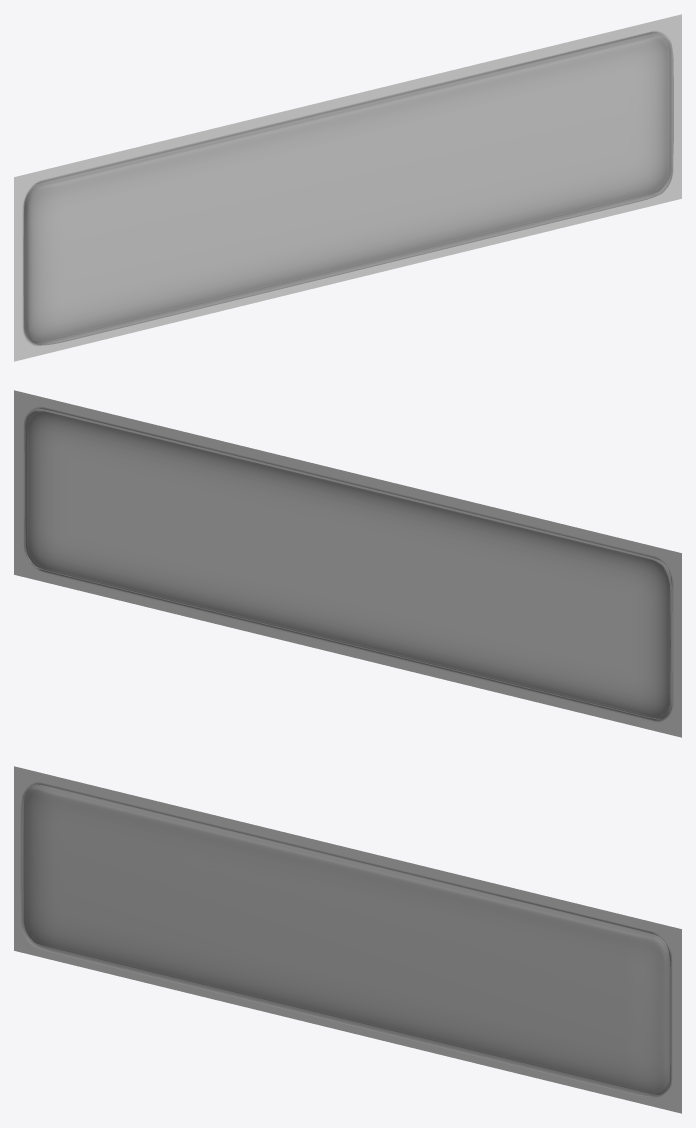
File: Display_07.dae
3 views of the same model, one above another, from view 1: azimuth 30°, elevation 25°; view 2: azimuth 150°, elevation 25°; view 3: azimuth 330°, elevation 25° (orthographic).
Visible parts, largest first — view 1: Display_07_part_01_LOD0, Display_07_part_02_LOD0; view 2: Display_07_part_01_LOD0, Display_07_part_02_LOD0; view 3: Display_07_part_01_LOD0, Display_07_part_02_LOD0.
Boxes of the visible parts, x1,y1,x2,y2 form: Display_07_part_01_LOD0: [14, 14, 681, 361]; Display_07_part_02_LOD0: [23, 33, 673, 345]; Display_07_part_01_LOD0: [14, 390, 681, 737]; Display_07_part_02_LOD0: [24, 409, 672, 719]; Display_07_part_01_LOD0: [14, 766, 681, 1113]; Display_07_part_02_LOD0: [20, 784, 670, 1096].
Bounding box in the file's own units: 48.27 × 12.74 × 1.09.
